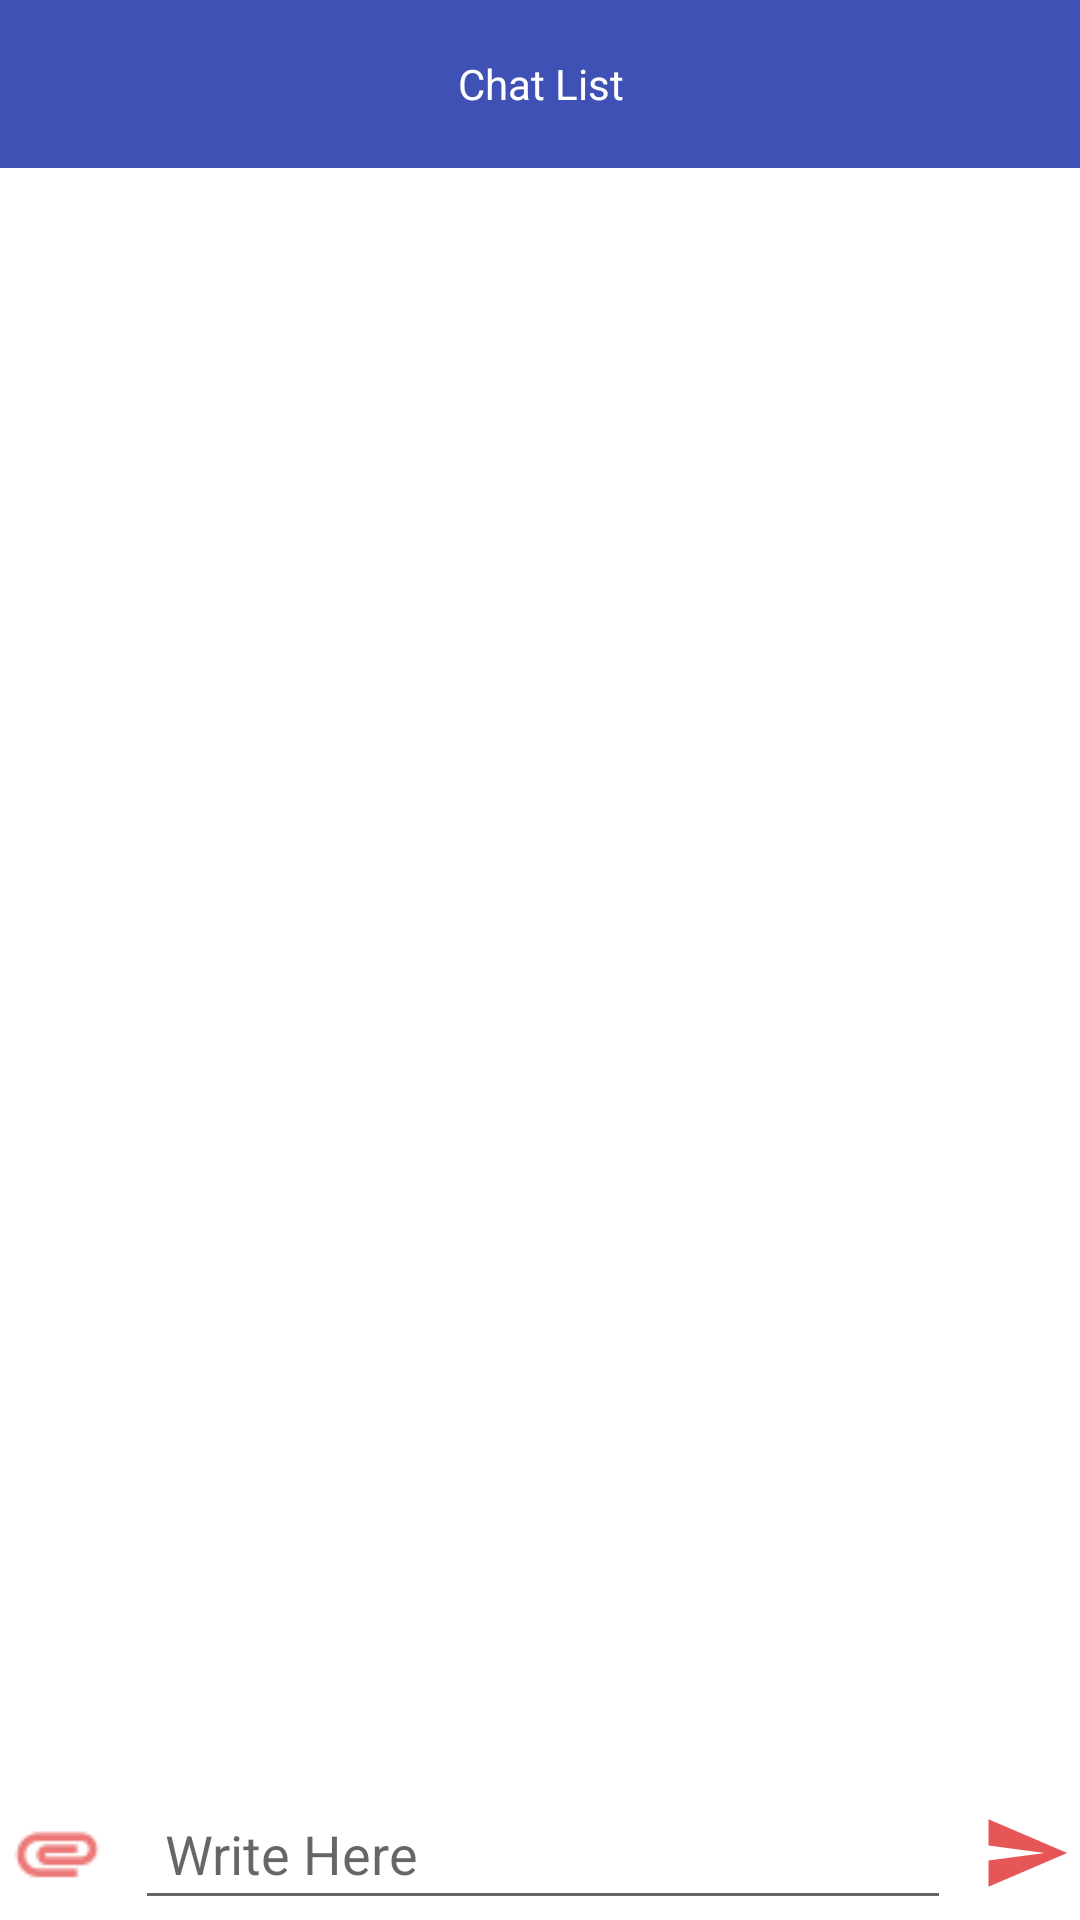

Icon click points for this 1080×1920 phone screenshot, format (x=x, y=y):
send: (x=1027, y=1853)
